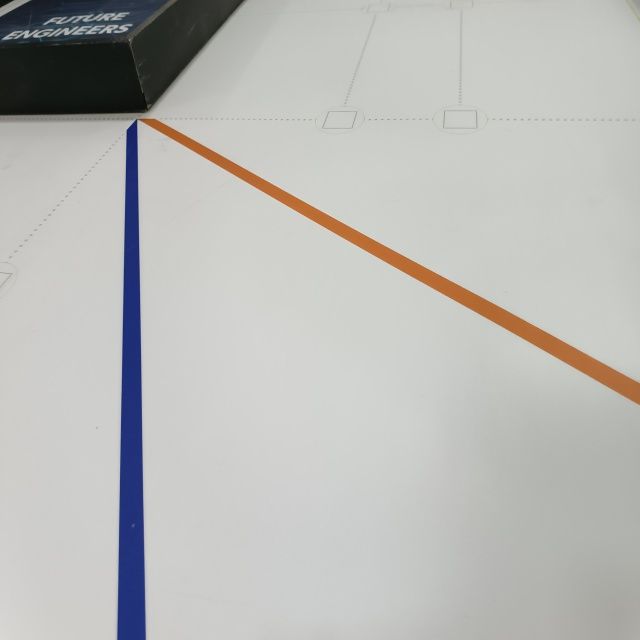blue line: (112, 121, 155, 640)
orange line: (139, 119, 640, 413)
